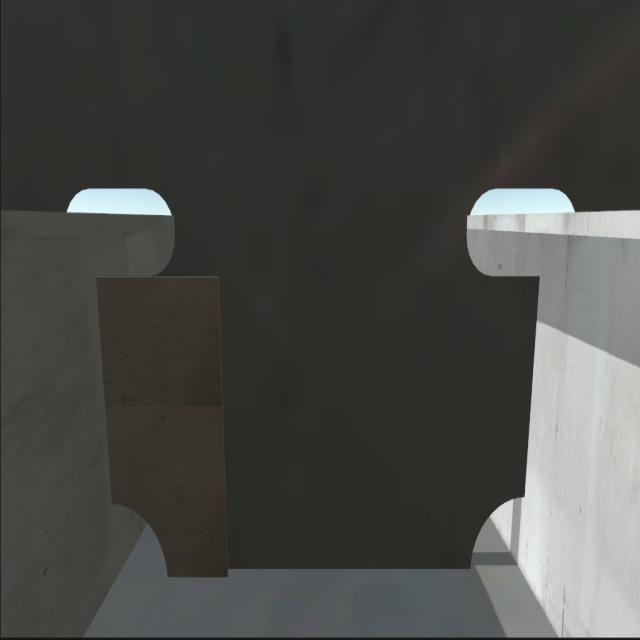fillet_hole: (112, 495, 172, 576), (472, 498, 526, 562)
fillet_yong_jeop_jang: (166, 555, 482, 577)
longi_yong_jeop_jang: (87, 273, 119, 507), (515, 266, 539, 500)
plate_CP01: (96, 281, 229, 578)
